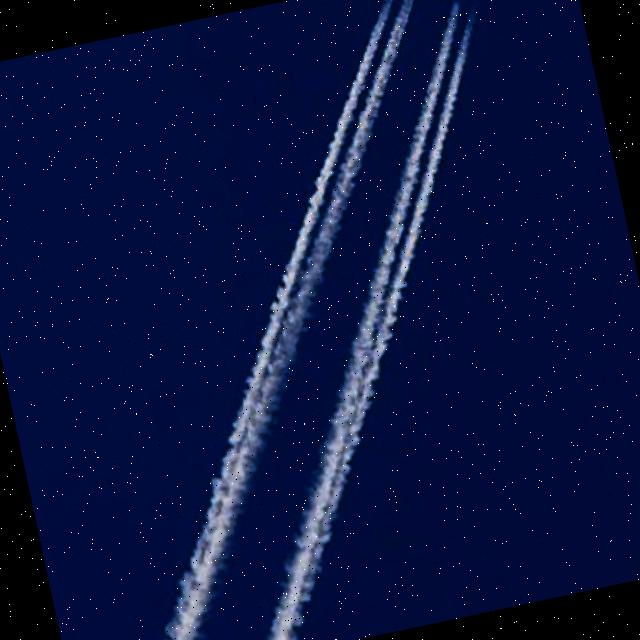Ct: (8, 1, 640, 640)
